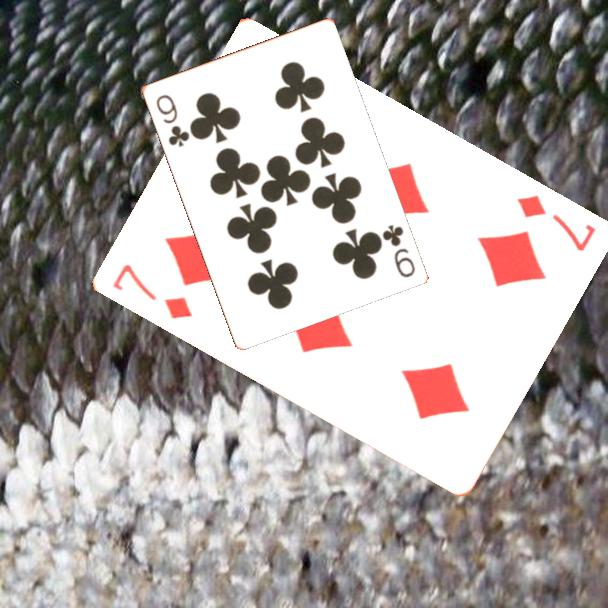c09: (152, 91, 192, 150), (378, 221, 418, 280)
d07: (108, 260, 195, 323), (513, 191, 598, 255)
